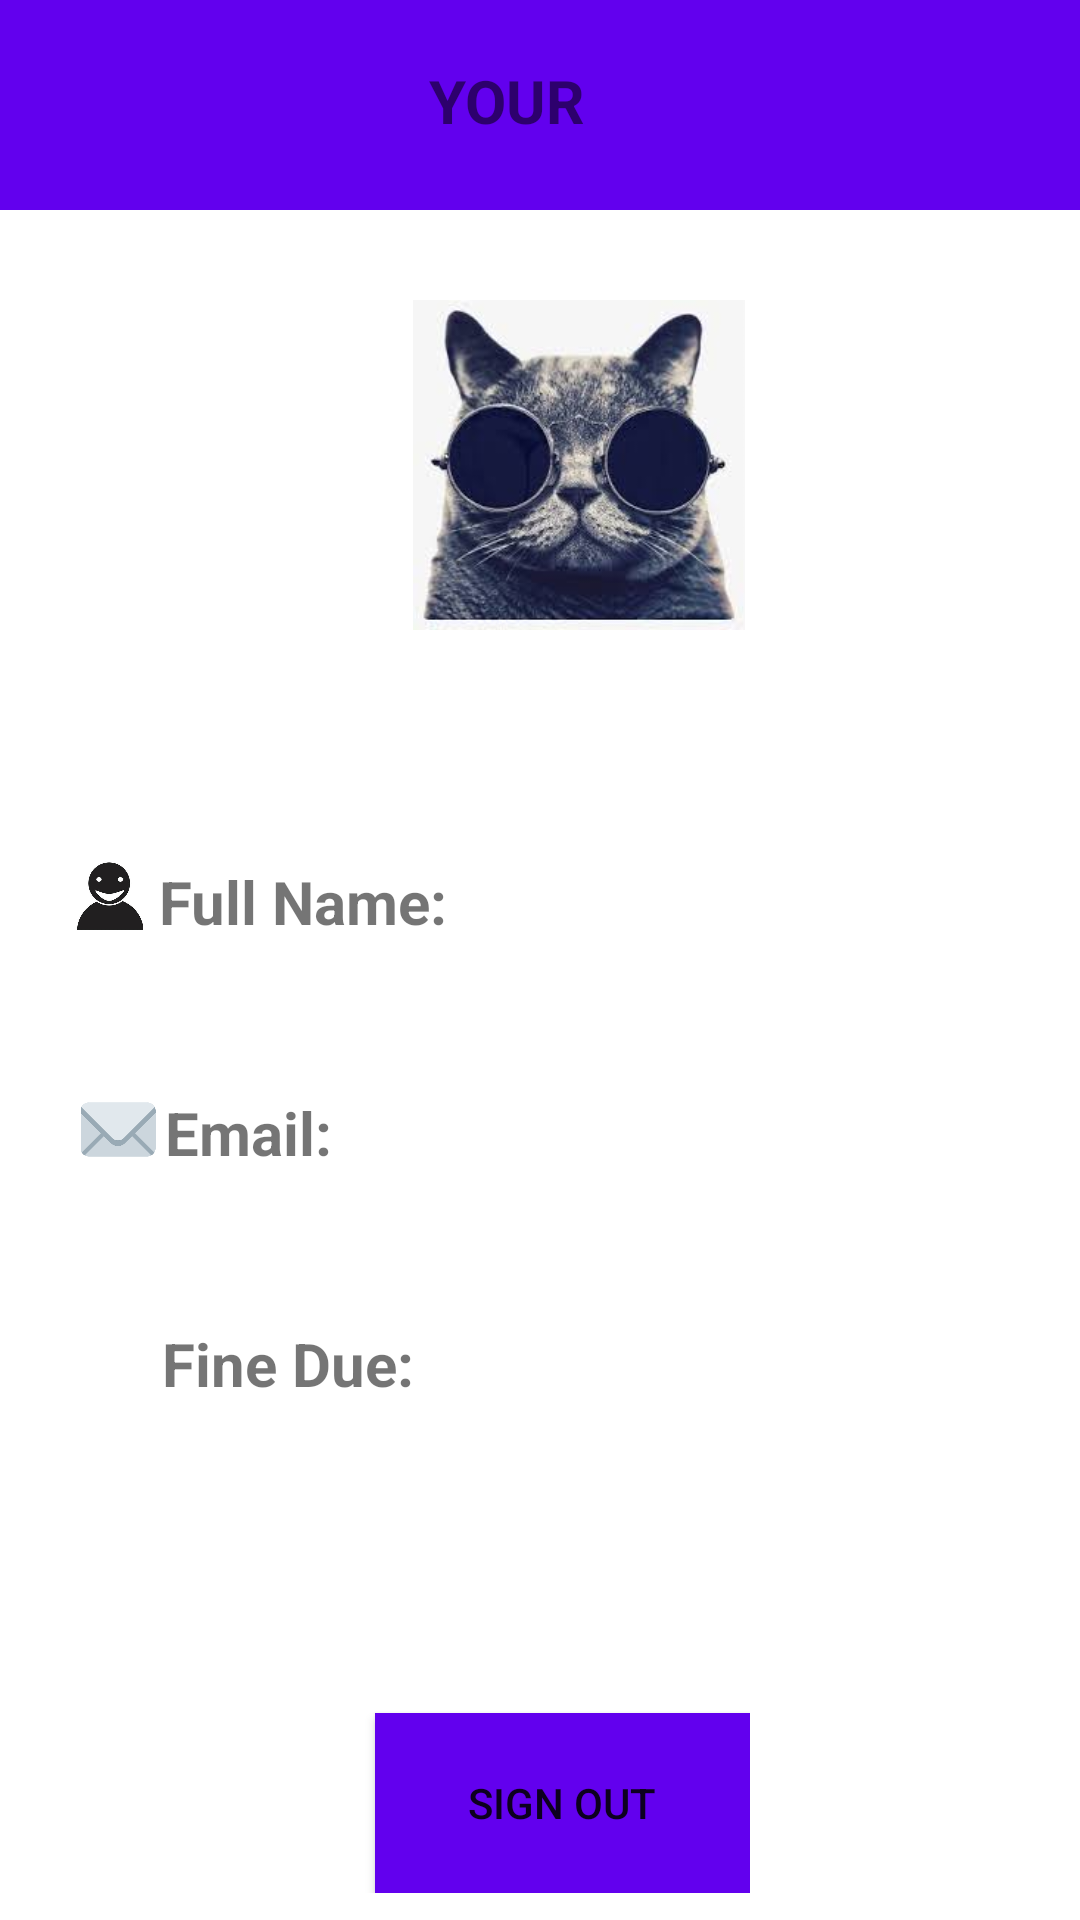

Icons on this 1080px×1920px Android screen, each with the point to tap as [x,y]:
catto: [579,468]
person: [110,896]
